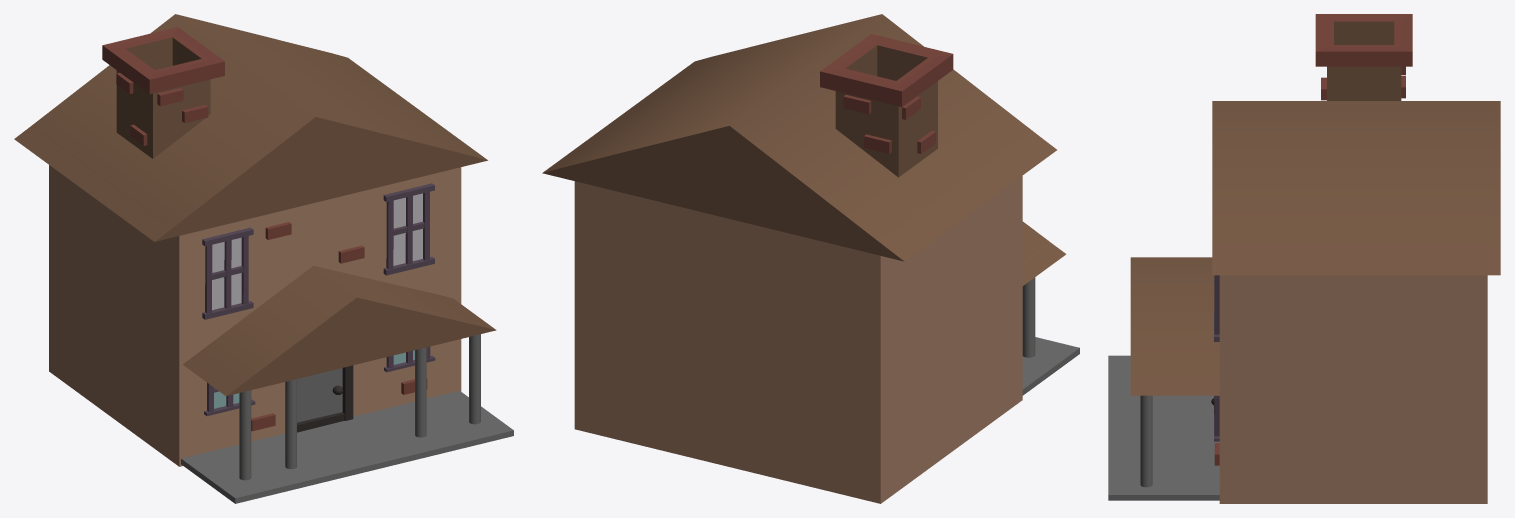
Rendered from building#7.fbx.
3 renders of one model, left to right at view 1: azimuth 30°, elevation 25°; view 2: azimuth 150°, elevation 25°; view 3: azimuth 270°, elevation 25°, orthographic. The views are drawn at different scales.
Parts seen in each view (by area): view 1: pCube170, pCube169, pCube171; view 2: pCube170, pCube169, pCube171; view 3: pCube170, pCube169, pCube171.
Boxes of the visible parts, bbox=[...] form: pCube170: bbox=[49, 165, 461, 466]; pCube169: bbox=[14, 14, 487, 241]; pCube171: bbox=[181, 265, 513, 503]; pCube170: bbox=[574, 176, 1022, 503]; pCube169: bbox=[542, 14, 1056, 261]; pCube171: bbox=[1022, 221, 1079, 395]; pCube170: bbox=[1211, 275, 1487, 503]; pCube169: bbox=[1212, 14, 1500, 275]; pCube171: bbox=[1108, 257, 1219, 500].
Size of the model in its own units: 15.59 by 15.56 by 15.47.
